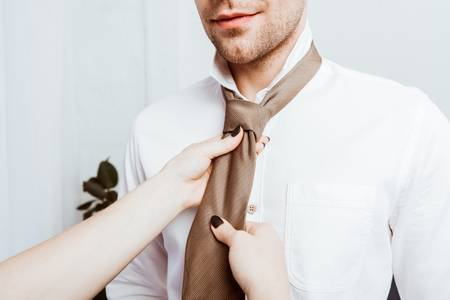F_shirt: (118, 18, 450, 294)
F_tie: (204, 44, 333, 300)
